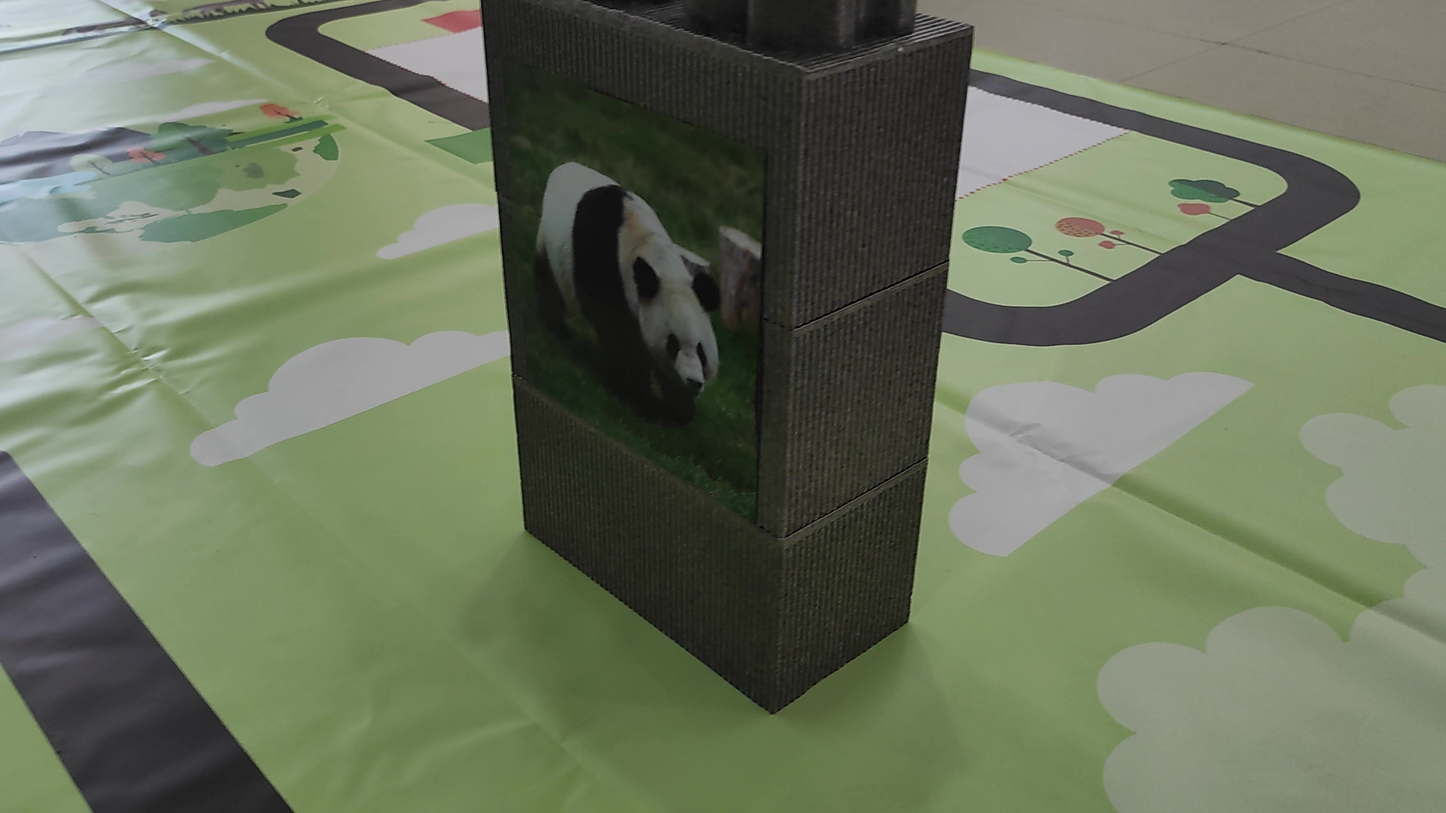panda: (514, 143, 735, 446)
